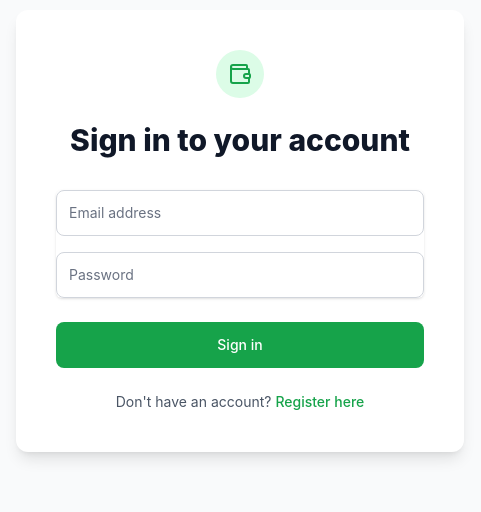
Test: Login Component › shows error message on invalid credentials
Type "test@test.com" into the field with placeholder "Email address" at (240, 213), box [56, 190, 424, 236]
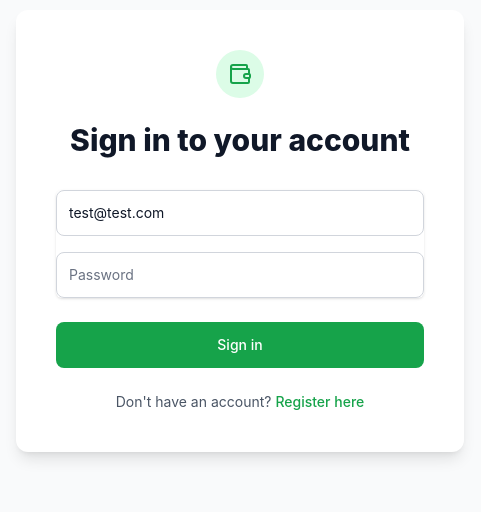
Type "wrongpass" into the password field with placeholder "Password" at (240, 275), box [56, 252, 424, 298]
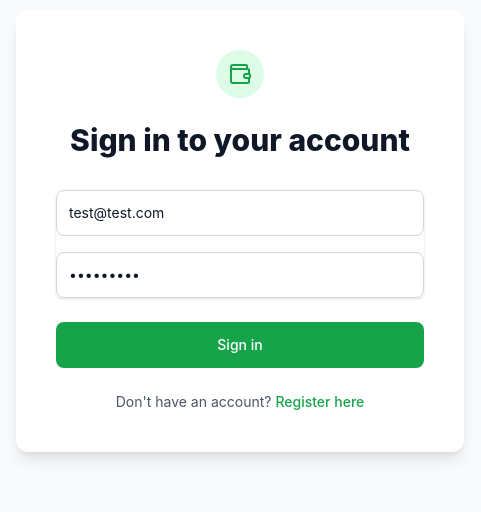
Click the button "Sign in" at (240, 345), box [56, 322, 424, 368]
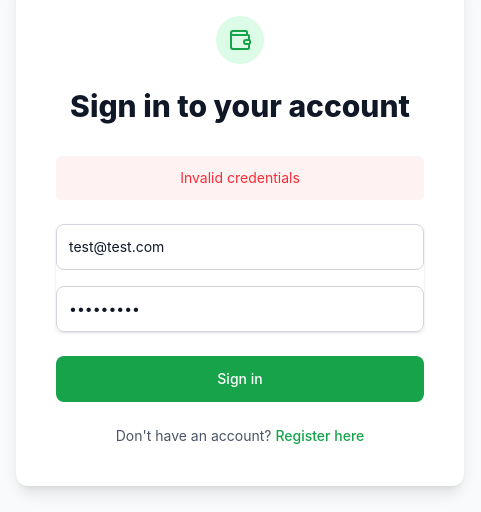
Now the text "Invalid credentials" is shown, box [56, 156, 424, 200]
